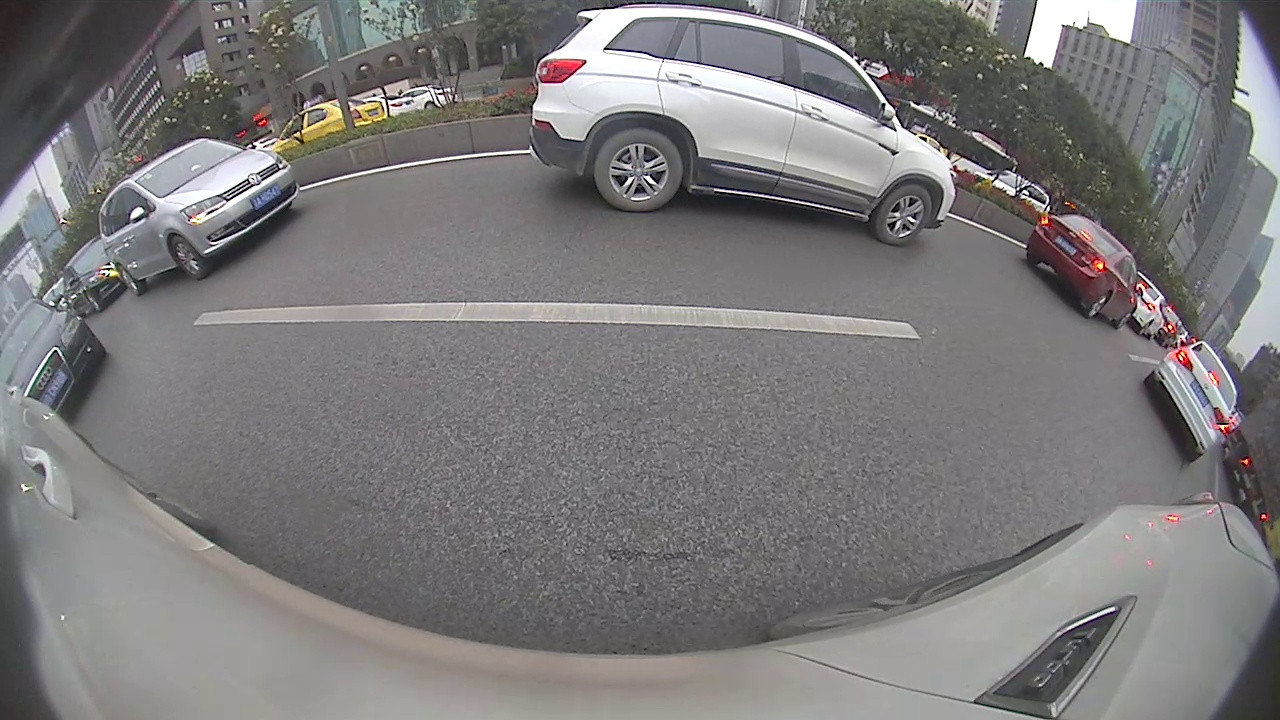car: (528, 3, 959, 248), (98, 138, 300, 295), (1023, 213, 1145, 332), (1, 298, 108, 416), (1142, 338, 1239, 458)
front: (874, 183, 931, 246), (171, 234, 205, 281)
rear: (597, 127, 684, 215), (117, 263, 141, 296), (1084, 292, 1112, 320)
